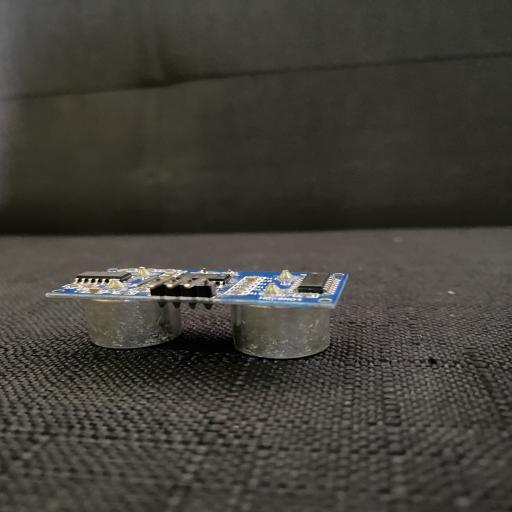Ultrasonic Sensor: (46, 266, 350, 360)
